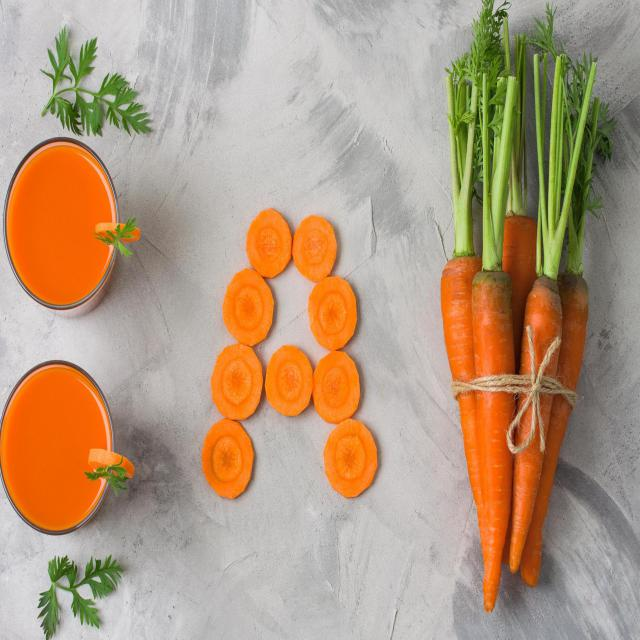carrot: (429, 192, 595, 614), (198, 213, 388, 503)
